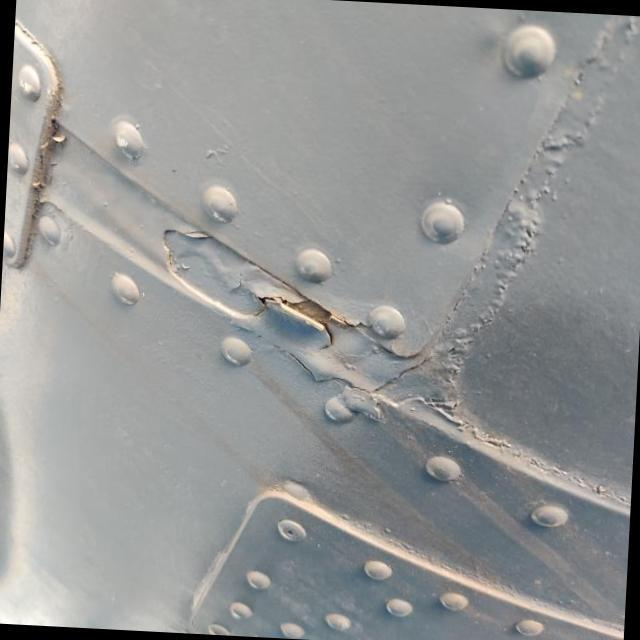Rupture: (240, 281, 386, 354)
